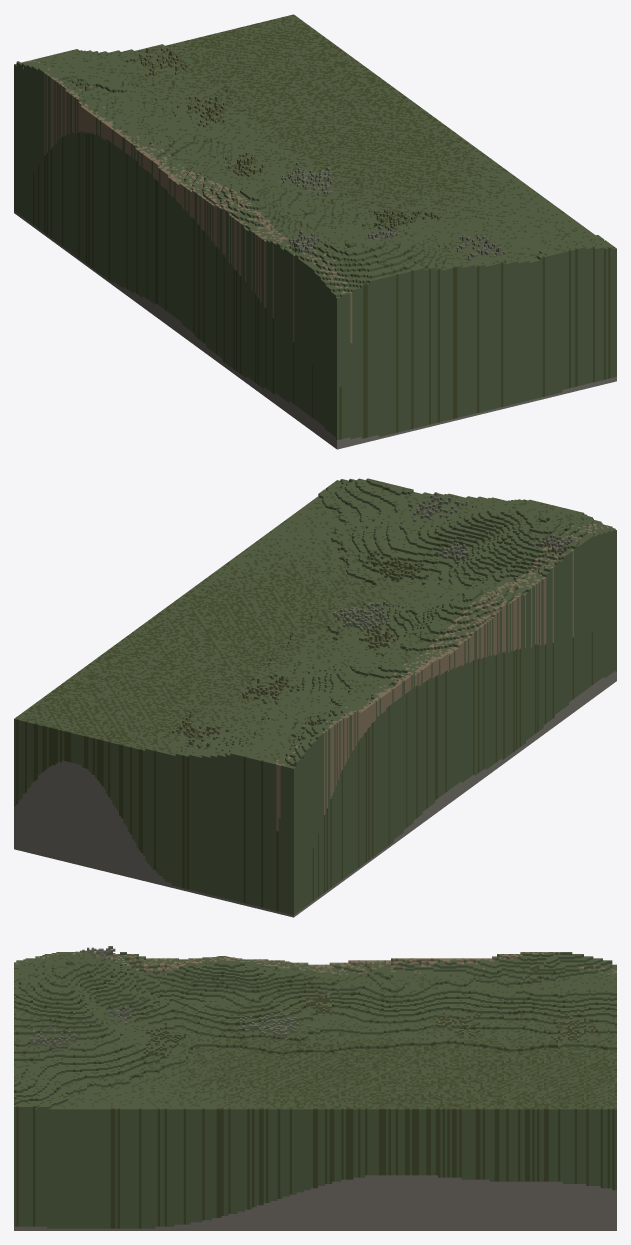
File: Combined Desert(3)-8-tile 8.obj
The picture shows the model from 3 angles, top to bottom: view 1: azimuth 30°, elevation 25°; view 2: azimuth 150°, elevation 25°; view 3: azimuth 270°, elevation 25°; orthographic projection. The views are drawn at different scales.
Visible parts, largest first — view 1: tile 8; view 2: tile 8; view 3: tile 8.
Part boxes in pixels (x1,y1,x2,y2): tile 8: (14,14,616,449); tile 8: (14,478,616,917); tile 8: (14,946,616,1230).
Size of the model in its own units: 12.8 by 7.7 by 25.6.
Materials: 1 (1 with a texture image).
